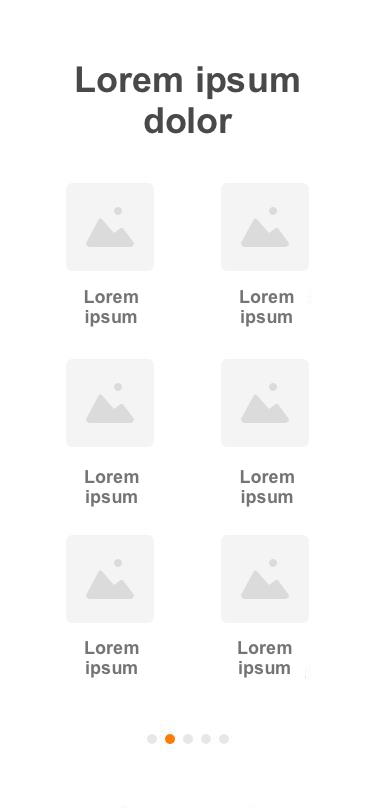Image: (221, 183, 310, 272), (221, 359, 310, 448), (221, 535, 310, 624), (67, 358, 155, 448), (67, 183, 155, 272), (67, 535, 155, 624)
PageIndicator: (146, 733, 231, 744)
Text: (76, 66, 300, 136), (84, 469, 140, 508), (240, 469, 295, 508), (238, 640, 293, 679), (84, 290, 140, 328), (239, 290, 294, 328), (85, 641, 140, 679)
